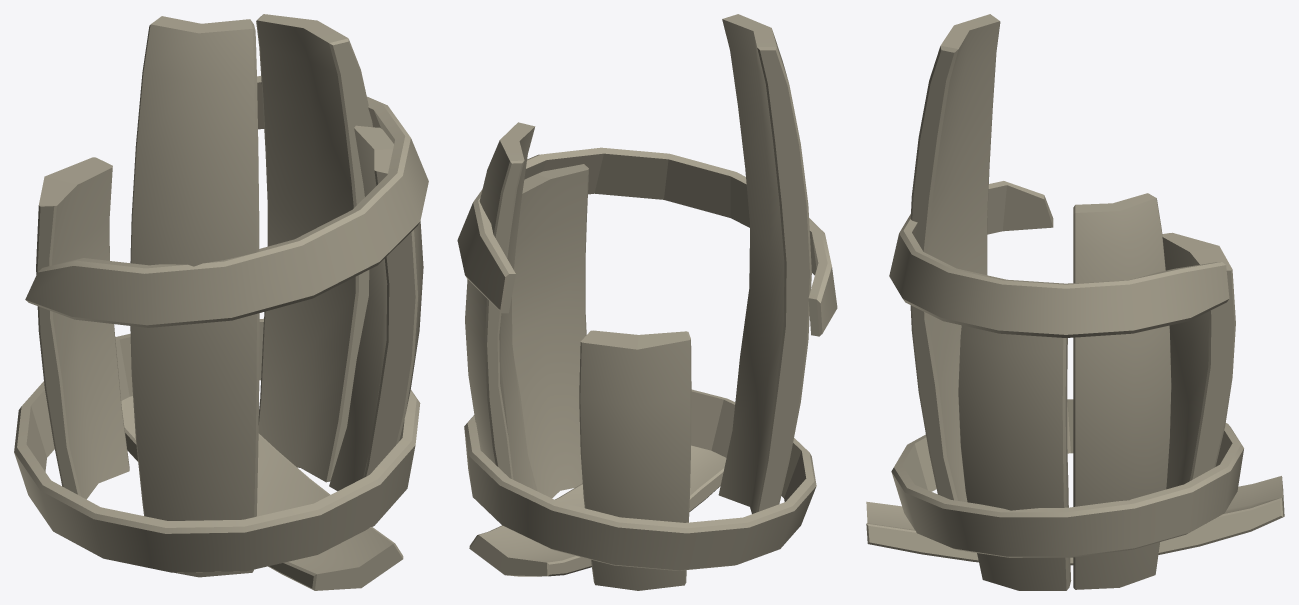
The model's file is Barrel broken.fbx.
3 views of the same model, side by side, from view 1: azimuth 30°, elevation 25°; view 2: azimuth 150°, elevation 25°; view 3: azimuth 270°, elevation 25° (orthographic). The views are drawn at different scales.
Visible parts, largest first — view 1: polySurface45, polySurface41, ring1, ring2, polySurface44, polySurface43, polySurface46; view 2: polySurface45, polySurface44, polySurface43, ring2, ring1, polySurface41, polySurface46; view 3: polySurface41, polySurface45, ring1, polySurface43, ring2, polySurface44, polySurface46.
Part boxes in pixels (bbox=[...]): polySurface45: bbox=[130, 16, 259, 577]; polySurface41: bbox=[256, 14, 372, 482]; ring1: bbox=[25, 76, 428, 327]; ring2: bbox=[14, 318, 420, 572]; polySurface44: bbox=[36, 157, 129, 499]; polySurface43: bbox=[329, 125, 423, 491]; polySurface46: bbox=[121, 396, 403, 590]; polySurface45: bbox=[718, 14, 811, 513]; polySurface44: bbox=[579, 330, 691, 590]; polySurface43: bbox=[512, 164, 588, 498]; ring2: bbox=[464, 389, 816, 570]; ring1: bbox=[457, 147, 837, 336]; polySurface41: bbox=[465, 122, 535, 489]; polySurface46: bbox=[469, 445, 726, 576]; polySurface41: bbox=[1073, 193, 1171, 589]; polySurface45: bbox=[910, 14, 1000, 502]; ring1: bbox=[889, 181, 1229, 337]; polySurface43: bbox=[958, 325, 1071, 590]; ring2: bbox=[891, 399, 1243, 557]; polySurface44: bbox=[1162, 232, 1235, 489]; polySurface46: bbox=[866, 476, 1284, 565].
Bounding box in the file's own units: 1.37 × 1.93 × 1.49.
